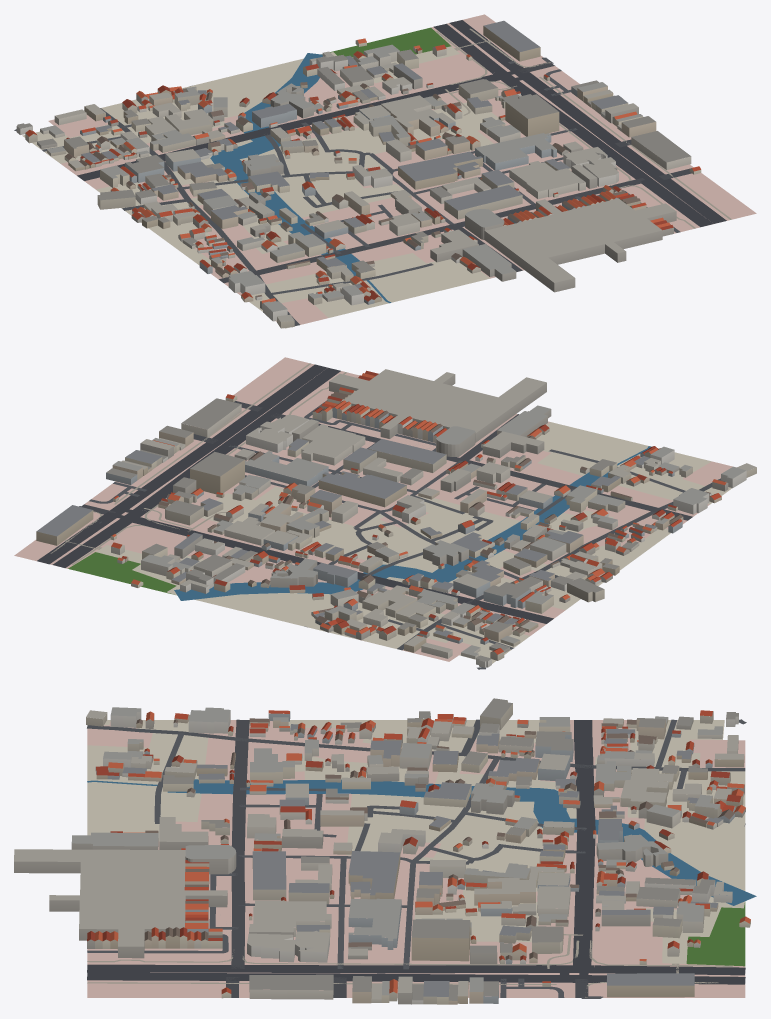
3 views of the same model, one above another, from view 1: azimuth 30°, elevation 25°; view 2: azimuth 150°, elevation 25°; view 3: azimuth 270°, elevation 25° (orthographic). The views are drawn at different scales.
Visible parts, largest first — view 1: buildings_roofs, landuse, buildings_walls, roads, water; view 2: buildings_roofs, landuse, buildings_walls, roads, water; view 3: buildings_roofs, landuse, buildings_walls, roads, water.
Boxes of the visible parts, x1,y1,x2,y2 form: buildings_roofs: (17,20,700,322); landuse: (22,14,756,328); buildings_walls: (16,26,701,328); roads: (14,20,731,325); water: (210,53,391,303); buildings_roofs: (36,369,756,661); landuse: (14,357,735,663); buildings_walls: (36,374,756,667); roads: (37,363,720,669); water: (174,446,650,600); buildings_roofs: (14,698,750,1000); landuse: (87,720,745,997); buildings_walls: (14,701,750,1004); roads: (87,719,746,998); water: (87,779,756,905).
Size of the model in its own units: 530 by 19.21 by 564.
